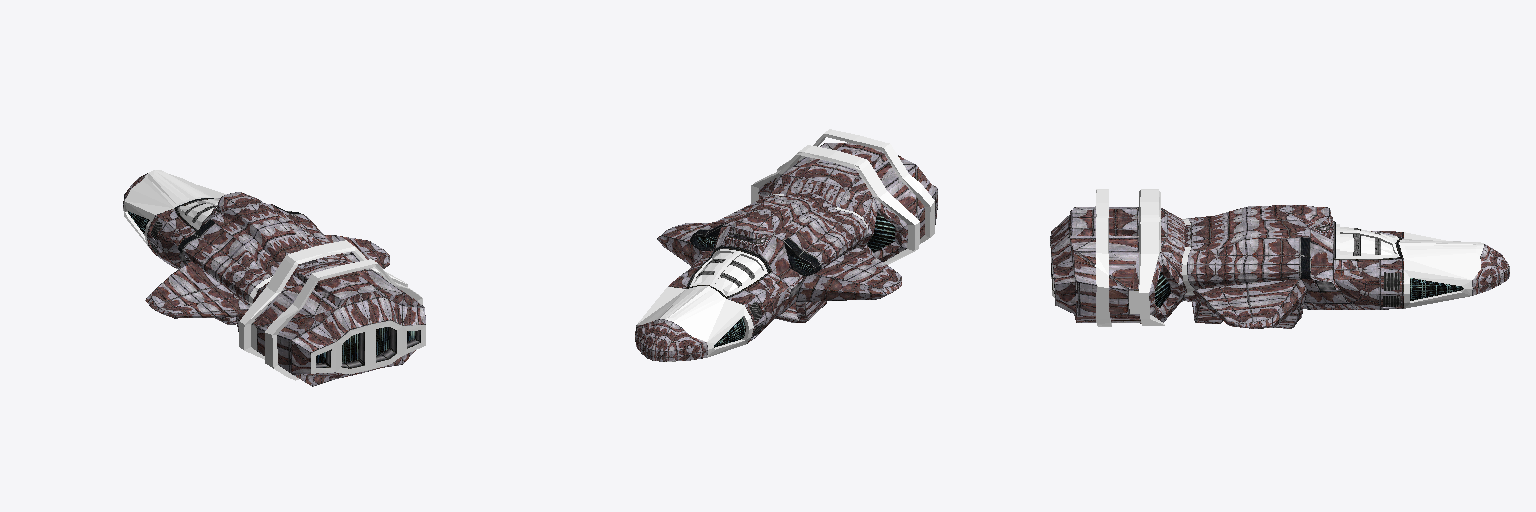
3 views of the same model, side by side, from view 1: azimuth 30°, elevation 25°; view 2: azimuth 150°, elevation 25°; view 3: azimuth 270°, elevation 25° (orthographic).
Parts seen in each view (by area): view 1: Cube.002; view 2: Cube.002; view 3: Cube.002.
Boxes of the visible parts, x1,y1,x2,y2 form: Cube.002: [123, 170, 425, 386]; Cube.002: [635, 129, 937, 361]; Cube.002: [1050, 189, 1509, 328].
Size of the model in its own units: 8.32 by 3.7 by 14.2.
6 materials, 4 textured.